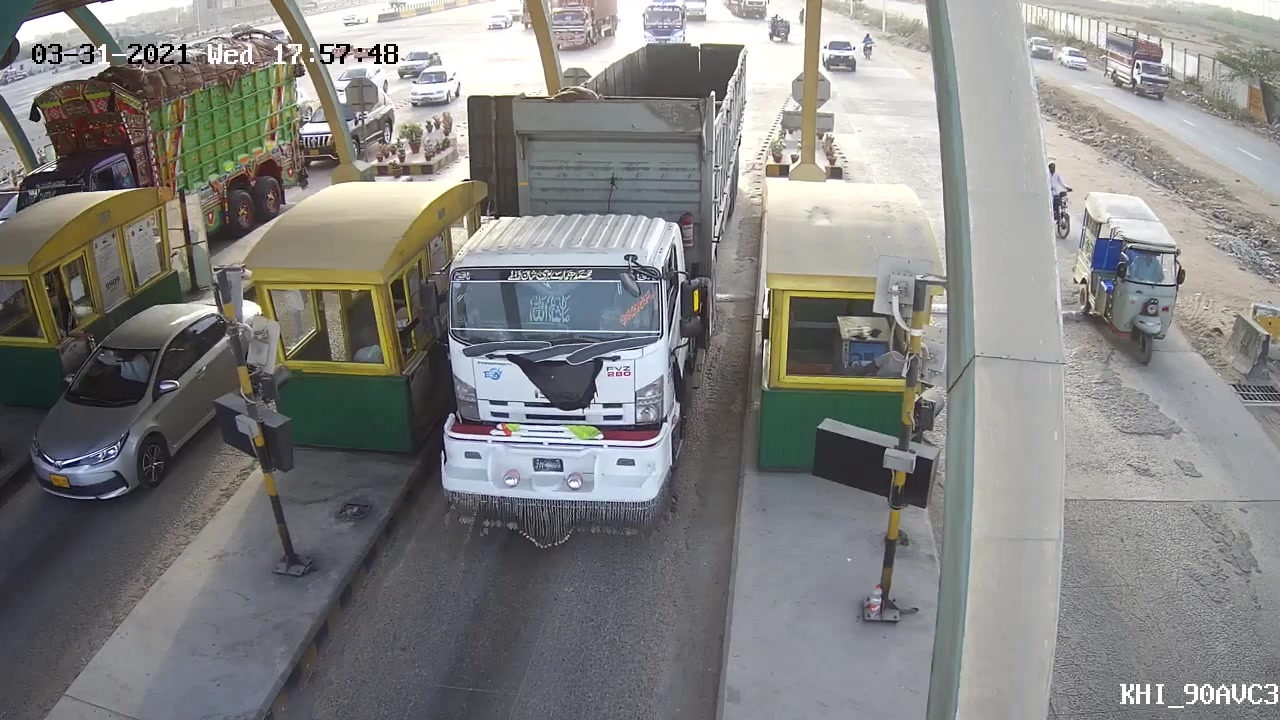F5: (409, 37, 755, 554)
